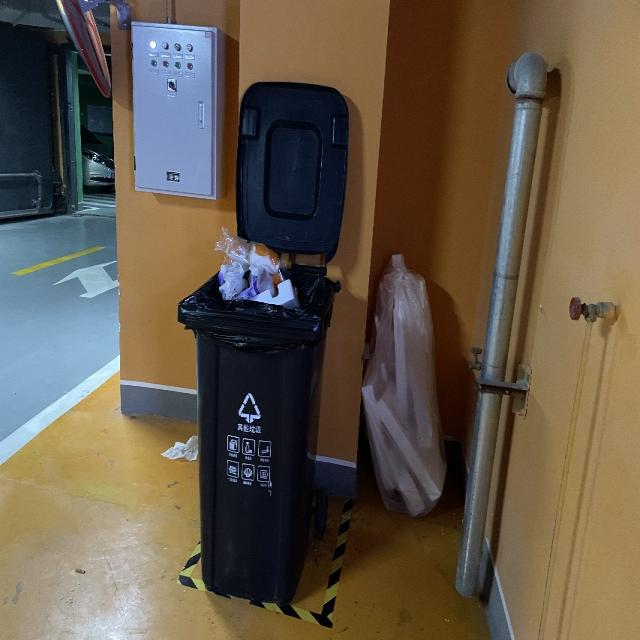garbage: (160, 433, 197, 461)
overflow: (177, 227, 338, 608)
